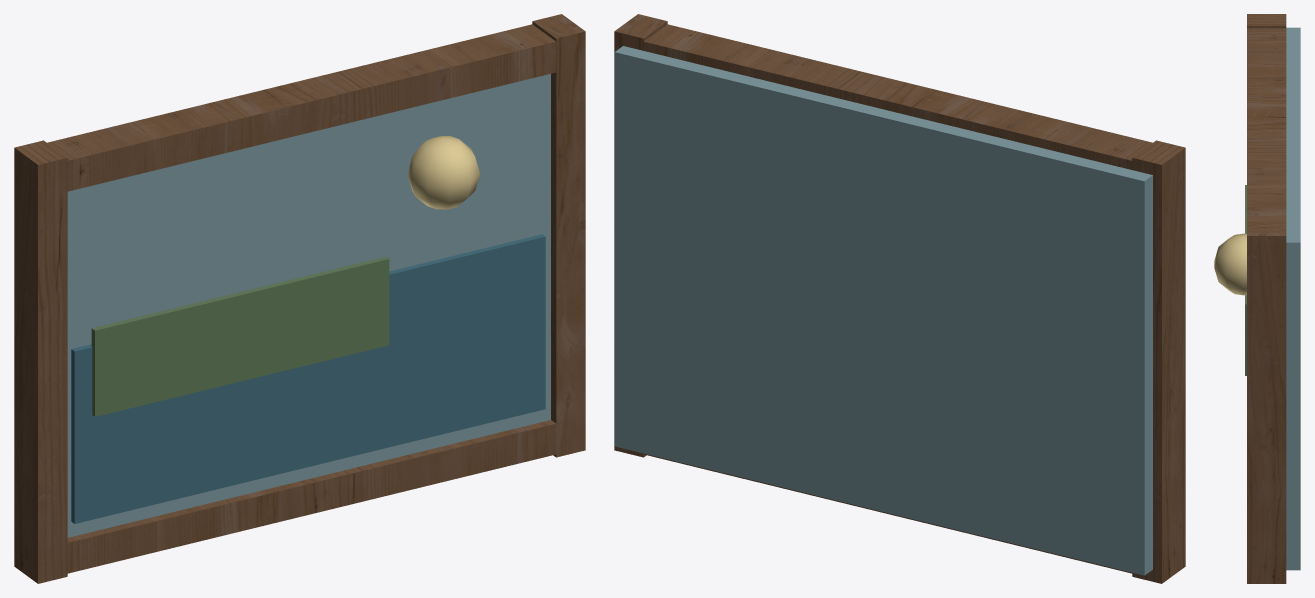
File: build_painting.glb
3 views of the same model, side by side, from view 1: azimuth 30°, elevation 25°; view 2: azimuth 150°, elevation 25°; view 3: azimuth 270°, elevation 25° (orthographic). The views are drawn at different scales.
Visible parts, largest first — view 1: painting; view 2: painting; view 3: painting.
Part boxes in pixels (x1,y1,x2,y2): painting: [14, 14, 585, 583]; painting: [614, 14, 1185, 583]; painting: [1214, 14, 1300, 583].
Bounding box in the file's own units: 0.93 × 0.68 × 0.1523.
Materials: 5 (1 with a texture image).
